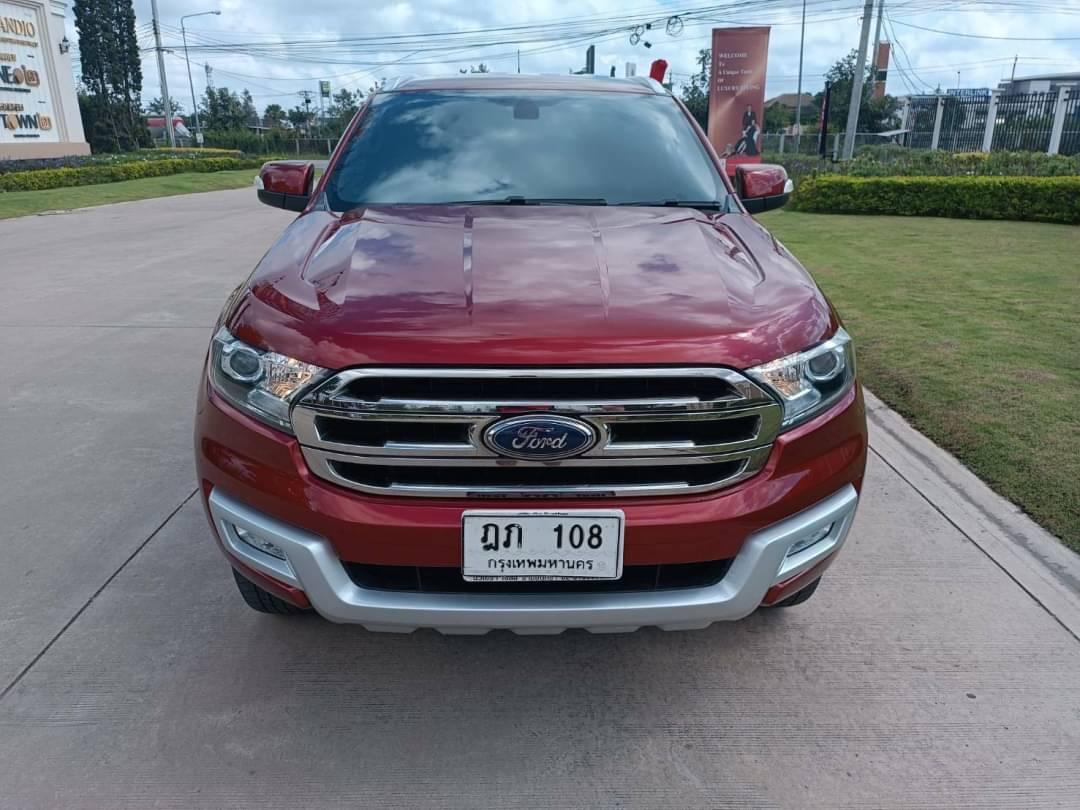license-plate: (460, 510, 628, 586)
